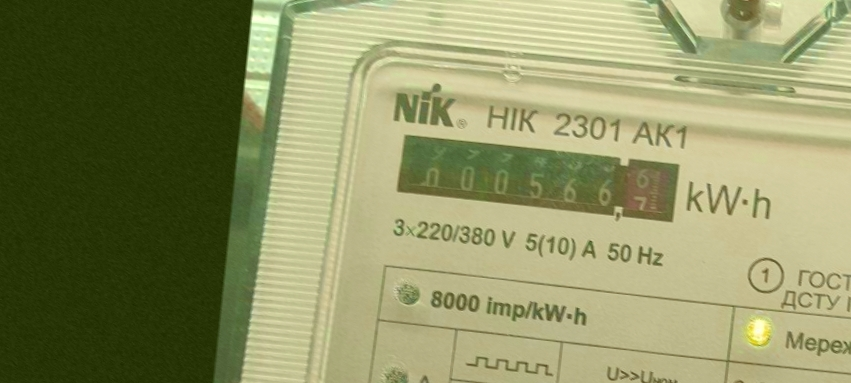0: (490, 164, 511, 194), (456, 159, 476, 190), (421, 160, 442, 185)
5: (525, 167, 546, 198)
6: (594, 172, 616, 205), (558, 172, 579, 202), (633, 164, 652, 190)
7: (630, 191, 648, 211)
9: (427, 139, 447, 161)
screen: (386, 123, 685, 229)
